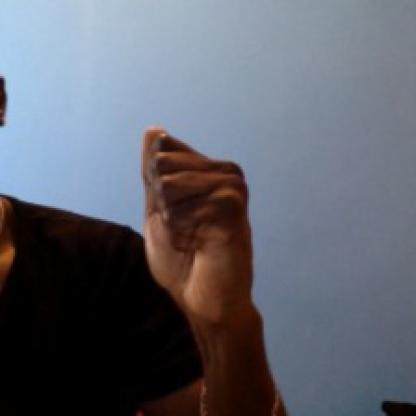BACKWARD: (126, 116, 282, 345)
